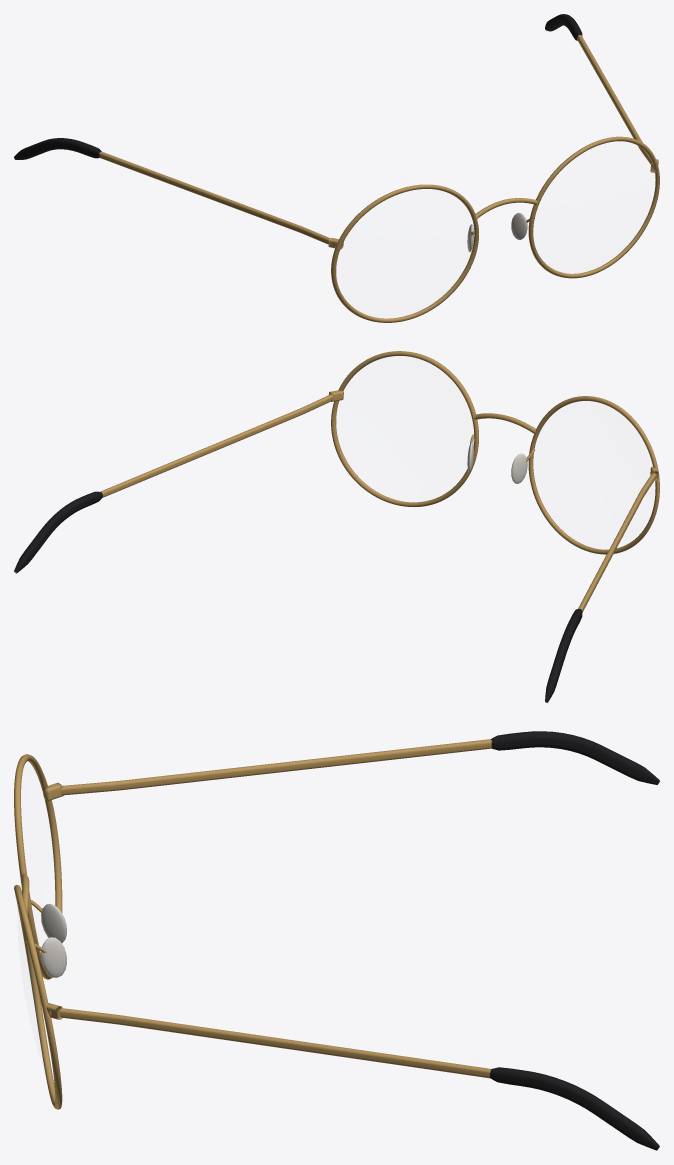
Rendered from round-wire.glb.
3 renders of one model, top to bottom at view 1: azimuth 30°, elevation 25°; view 2: azimuth 150°, elevation 25°; view 3: azimuth 270°, elevation 25°, orthographic. The views are drawn at different scales.
Visible parts, largest first — view 1: glasses; view 2: glasses; view 3: glasses.
Part boxes in pixels (x1,y1,x2,y2): glasses: (14,14,659,322); glasses: (14,351,659,702); glasses: (14,731,659,1150).
Size of the model in its own units: 0.1862 by 0.0482 by 0.1383.
Materials: 2 (1 with a texture image).
